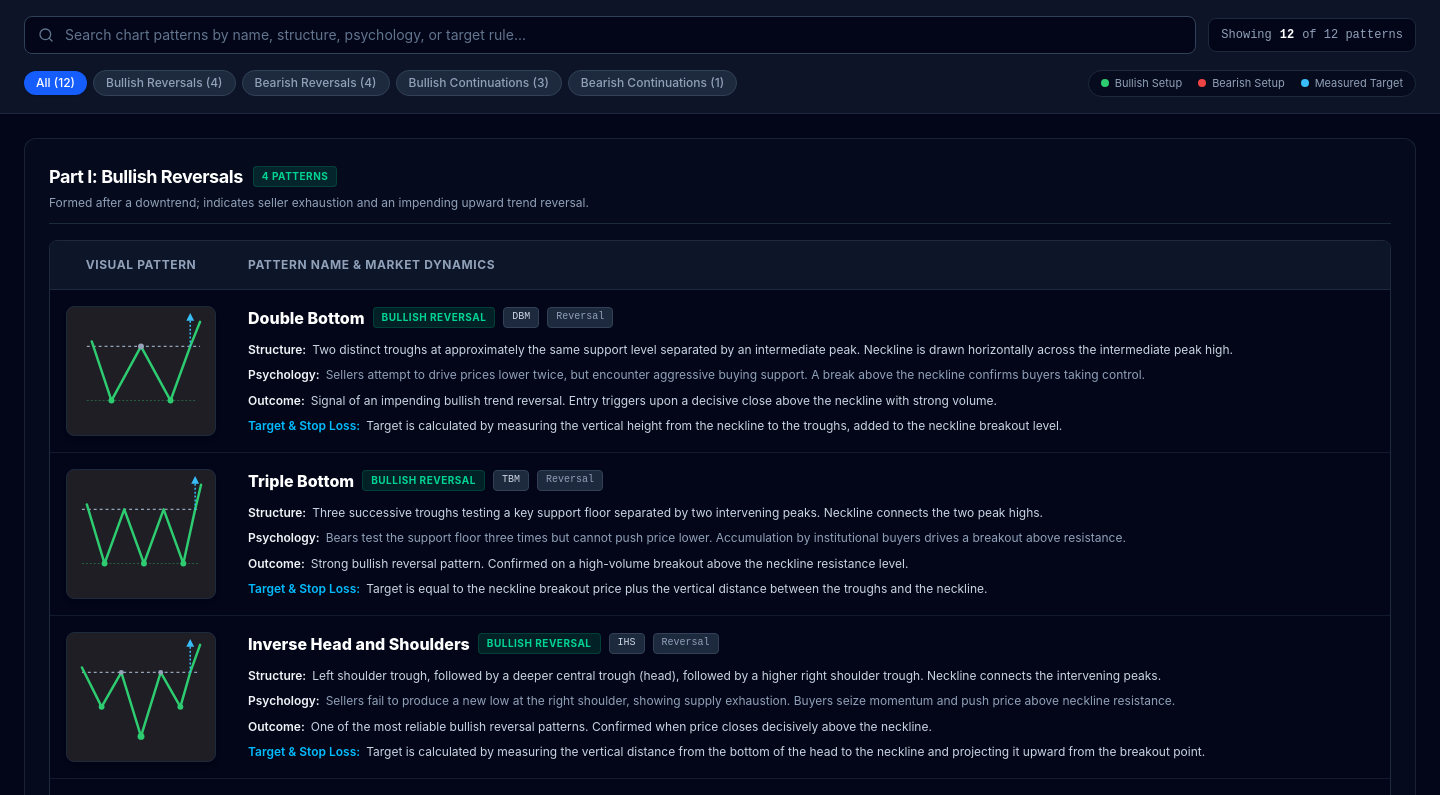
Test: ChartPatternEncyclopedia › filters patterns by category group tab
The width and height of the screenshot is (1440, 795).
Click the tab "Bullish Continuations (3)" at (479, 83), box [396,70,562,96]
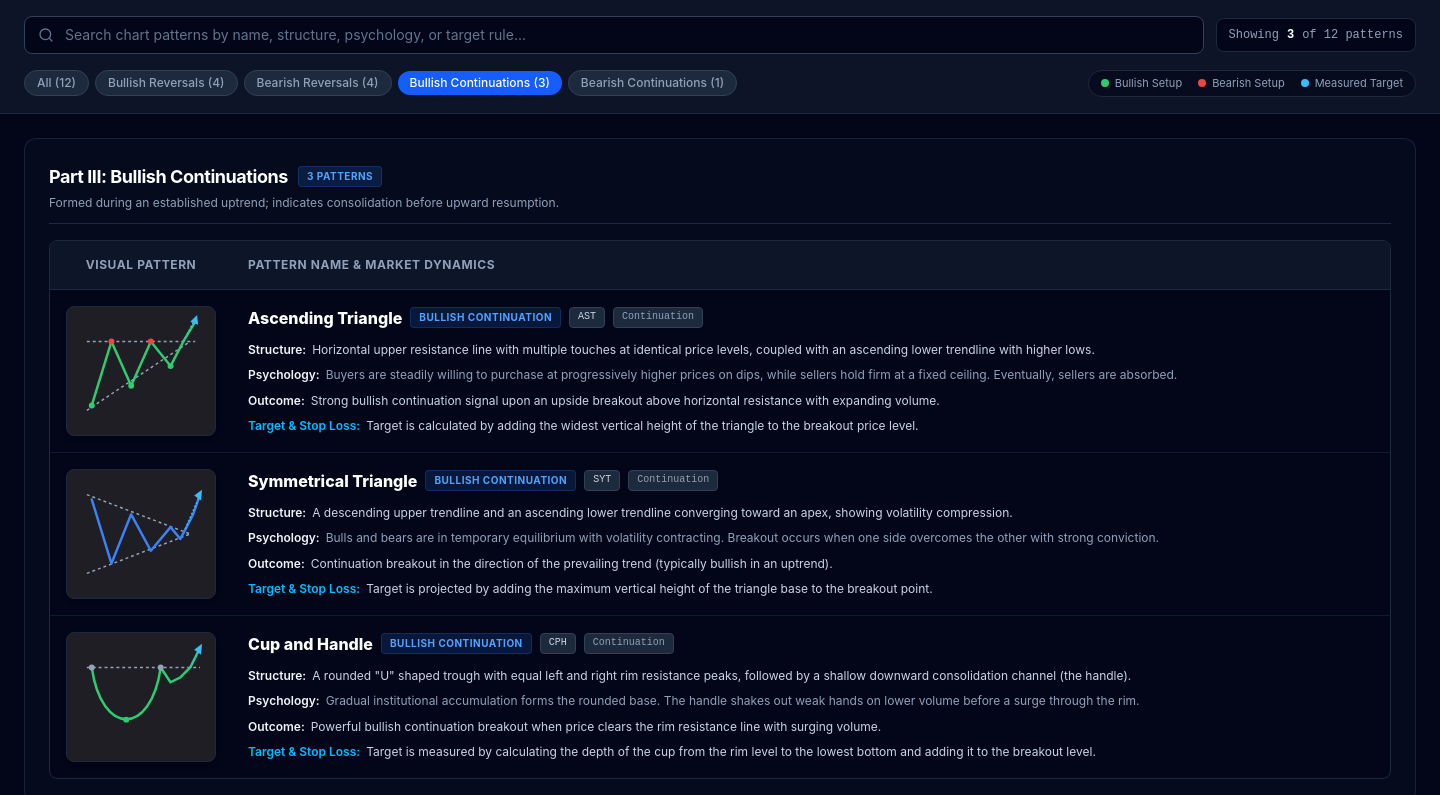
Expected: the heading "Part III: Bullish Continuations" is shown, [49,162,288,190]
Expected: the heading "Part I: Bullish Reversals" is gone
